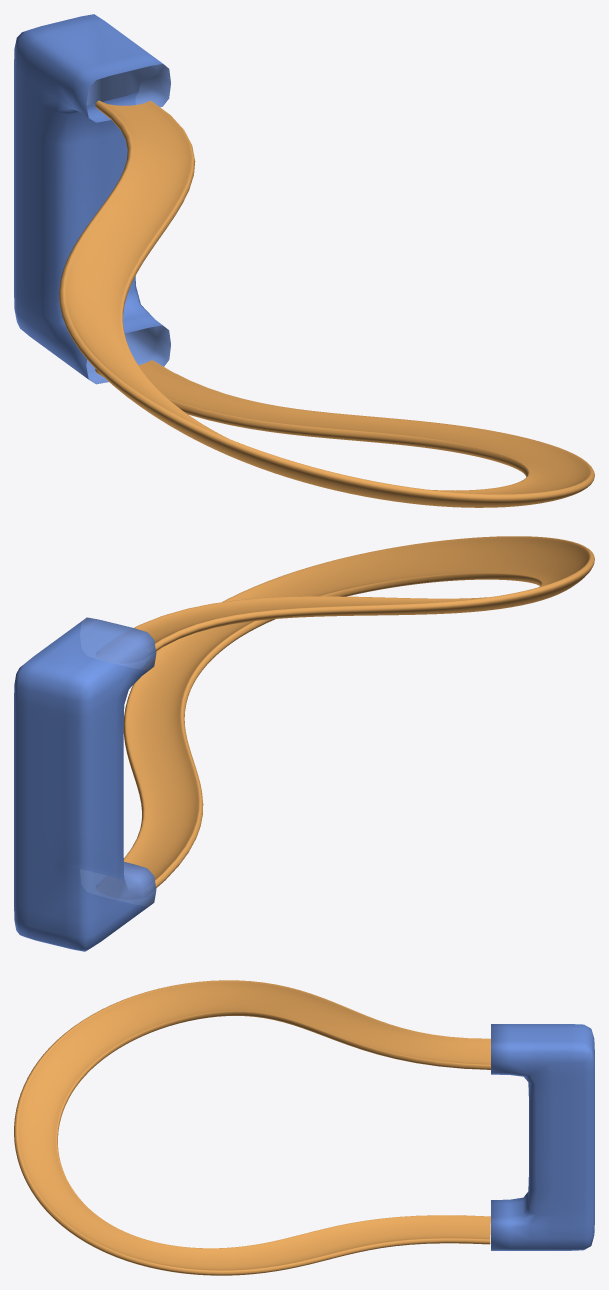
Rendered from road1.fbx.
3 views of the same model, one above another, from view 1: azimuth 30°, elevation 25°; view 2: azimuth 150°, elevation 25°; view 3: azimuth 270°, elevation 25° (orthographic). The views are drawn at different scales.
Parts seen in each view (by area): view 1: NurbsPath.001, Cube; view 2: Cube, NurbsPath.001; view 3: NurbsPath.001, Cube.
Part boxes in pixels (<box>): NurbsPath.001: <box>59,100,594,507</box>; Cube: <box>14,14,170,384</box>; Cube: <box>14,617,156,951</box>; NurbsPath.001: <box>123,536,594,887</box>; NurbsPath.001: <box>14,980,490,1275</box>; Cube: <box>491,1024,594,1250</box>.
Size of the model in its own units: 3469 by 2188 by 5591.
